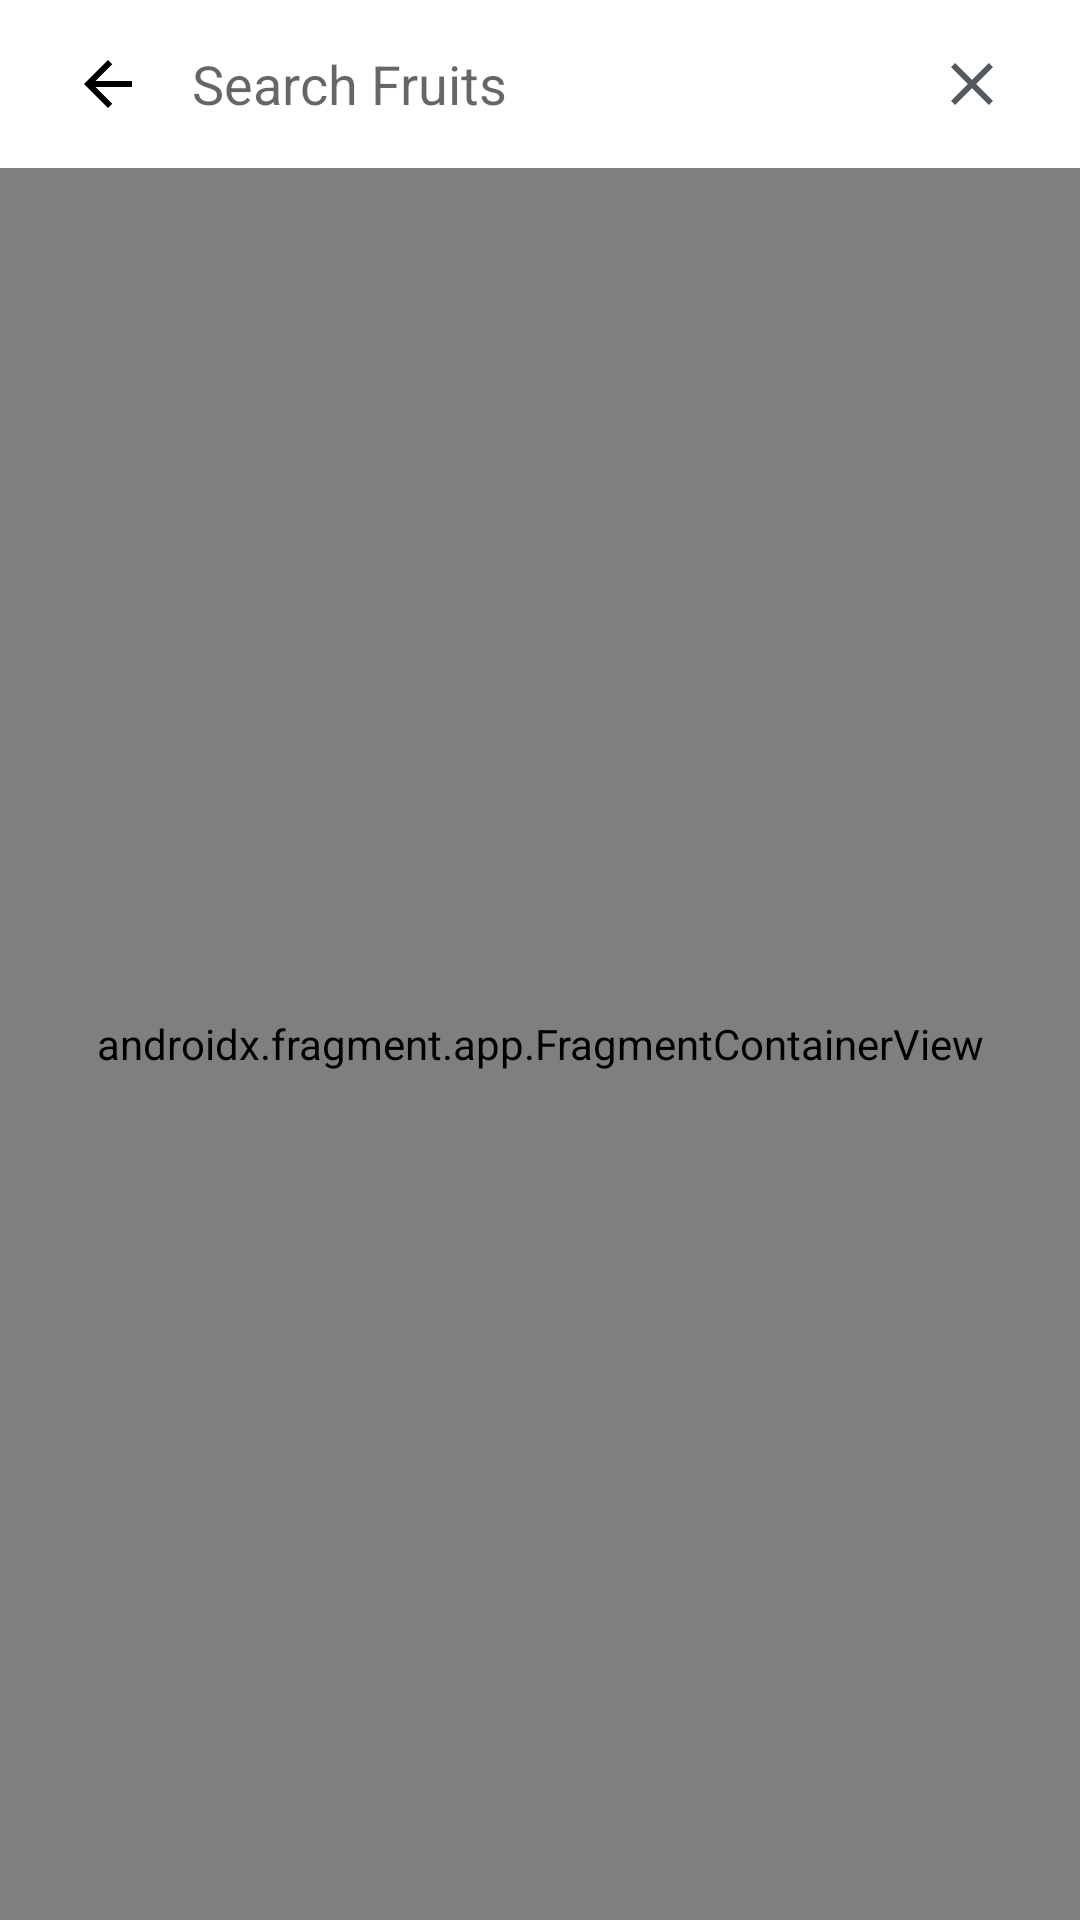

Named icons in this screenshot (1080*1920) and their bounding boxes, (x1=x1, y1=y1, x2=x2, y2=y2):
Click here to clear the search string: (x1=951, y1=63, x2=993, y2=105)
